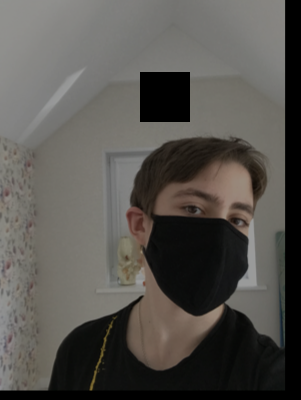with_mask: (143, 174, 255, 317)
